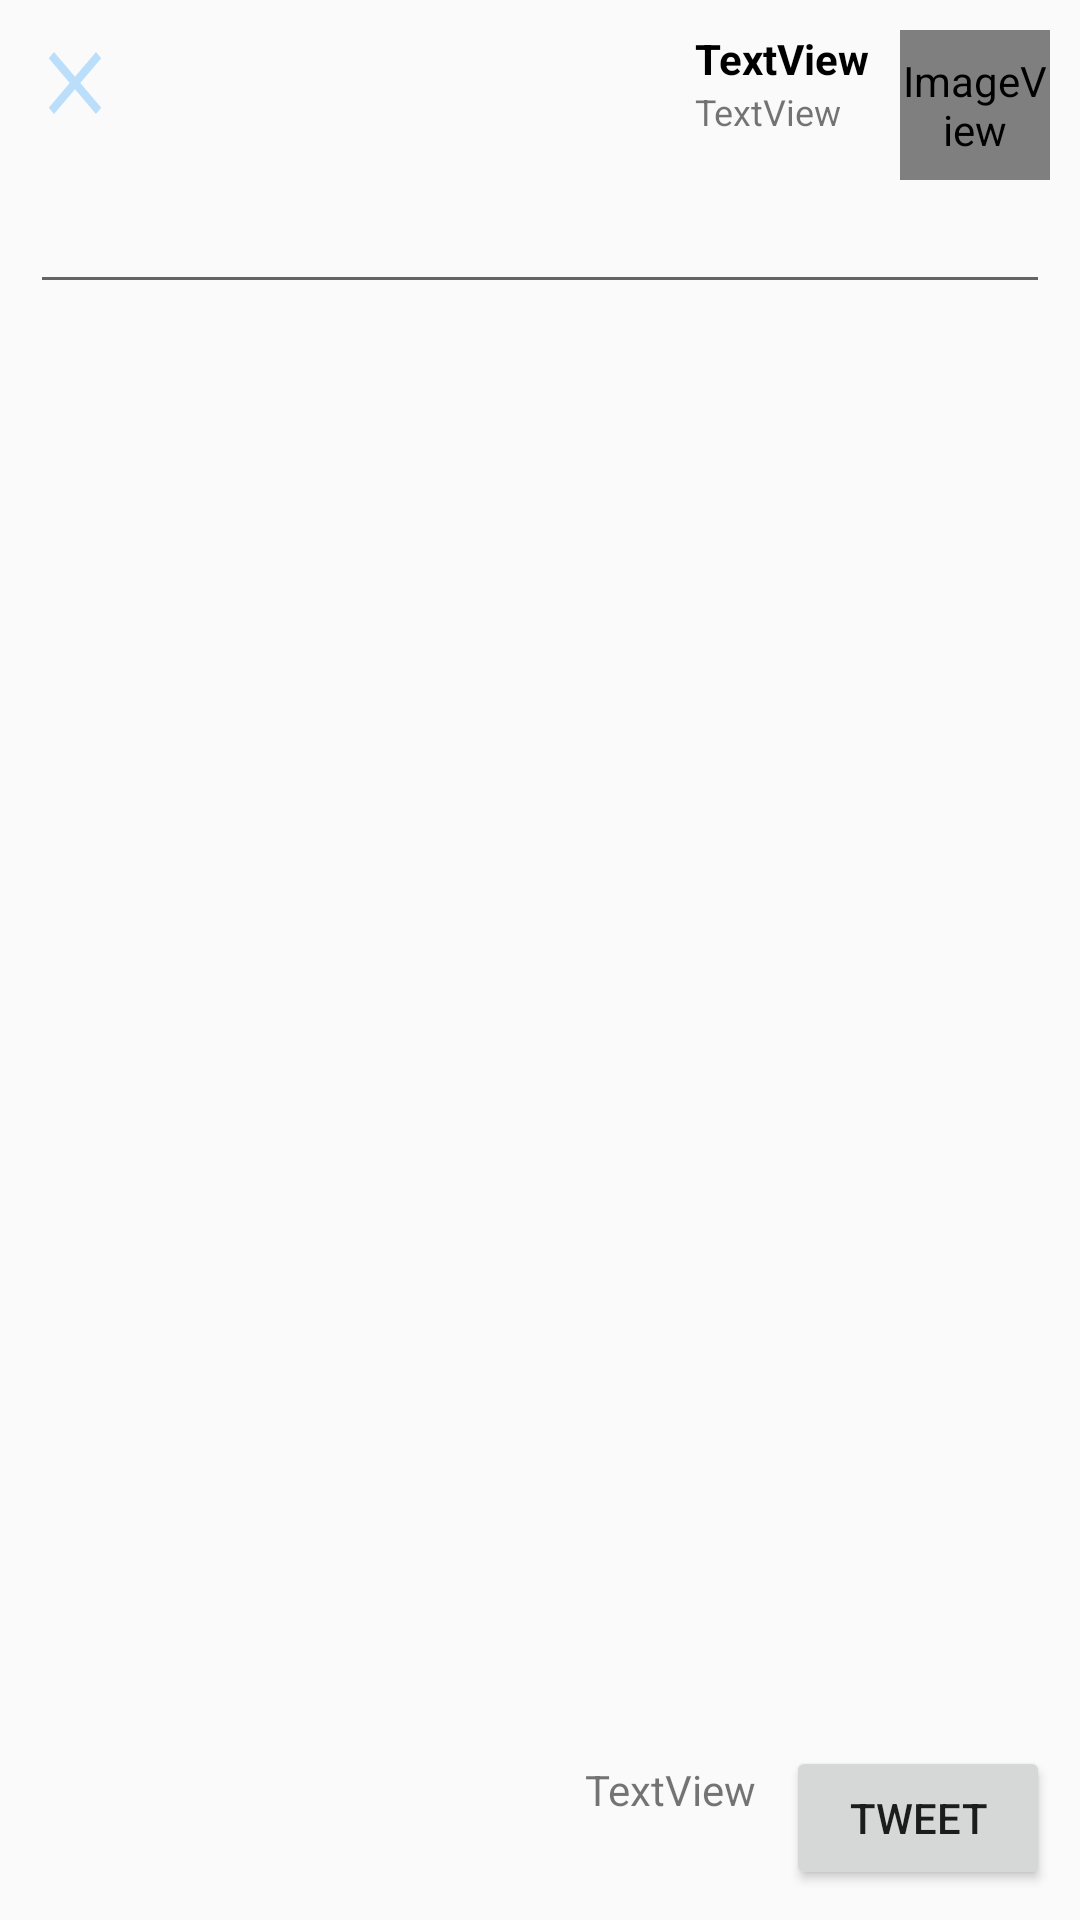

Locate icon controls on the screen. Image size 1080 × 1920, boxes as rect(x1, y1, x2, y2).
close: rect(49, 52, 101, 114)
